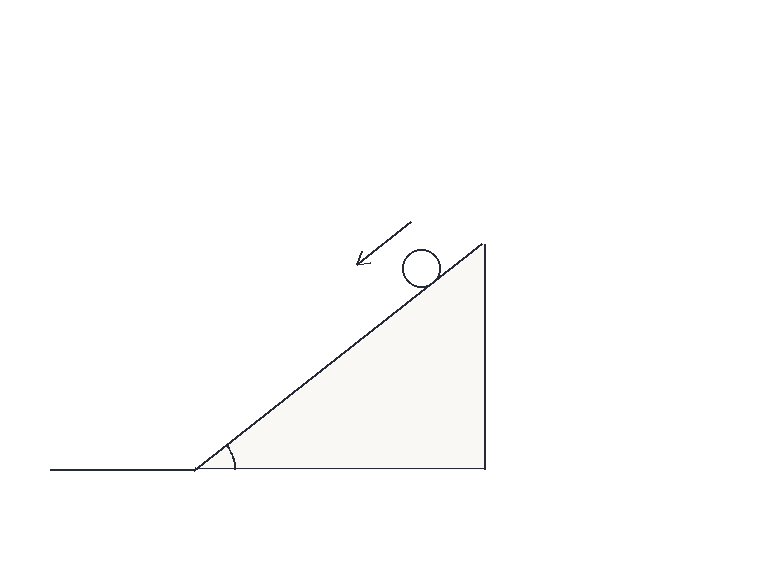ball: (400, 247, 442, 289)
ramp: (193, 242, 485, 471)
